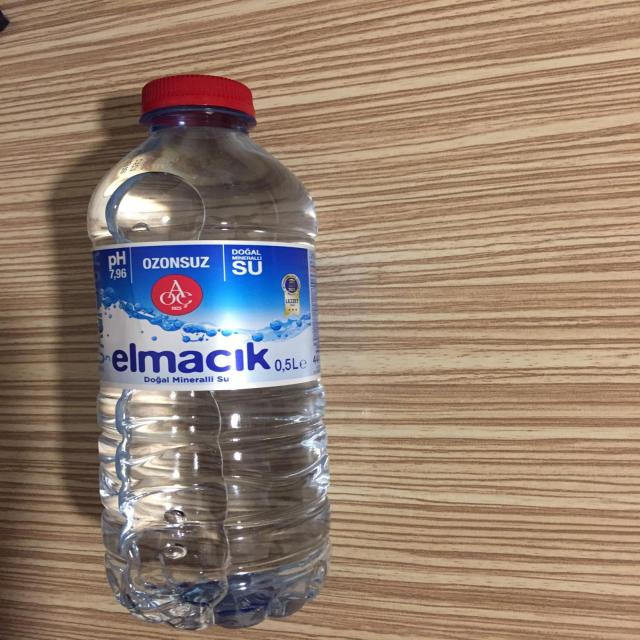bottle: (93, 70, 327, 626)
